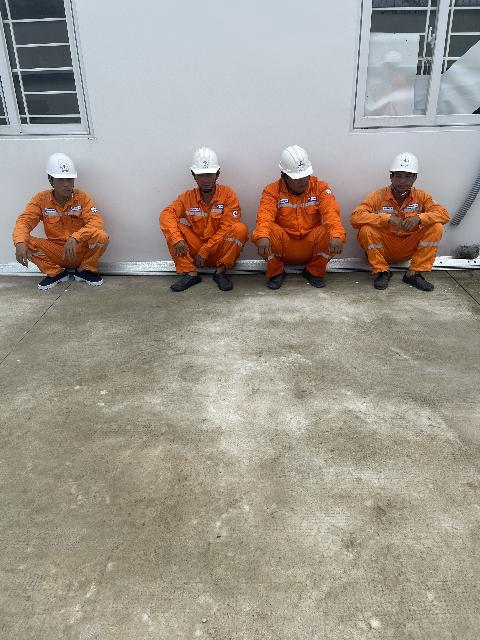helmet: (271, 139, 320, 190), (41, 142, 87, 184), (374, 144, 426, 180), (182, 142, 230, 180)
shoes: (69, 258, 122, 298), (167, 264, 205, 297), (30, 270, 74, 298), (401, 262, 437, 295), (293, 264, 328, 294), (208, 264, 237, 294), (367, 264, 395, 294), (264, 267, 290, 292)
